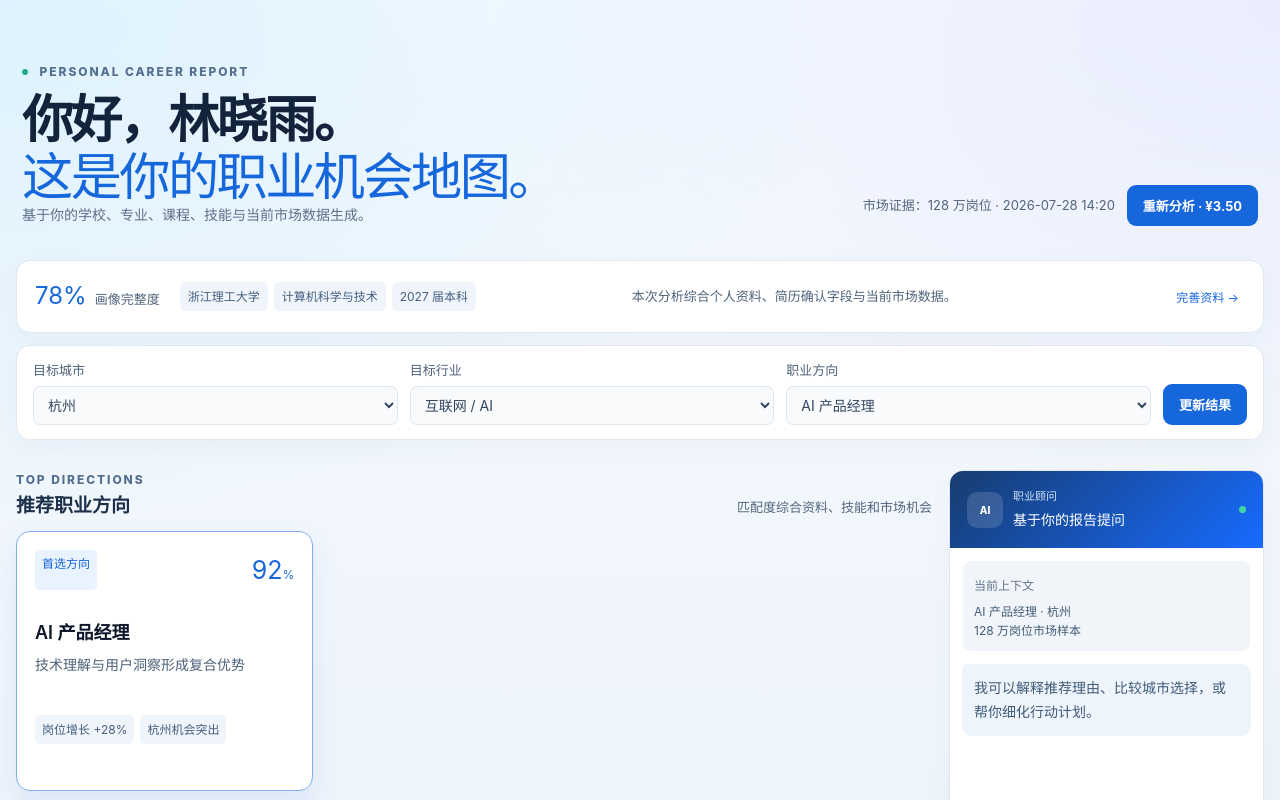
Test: CareerAnalysisView › renders report run progress from SSE and refreshes the completed report
Click the button with test id "generate-analysis": [1192, 206] box 1127,185 -> 1258,226
(page scrolled)
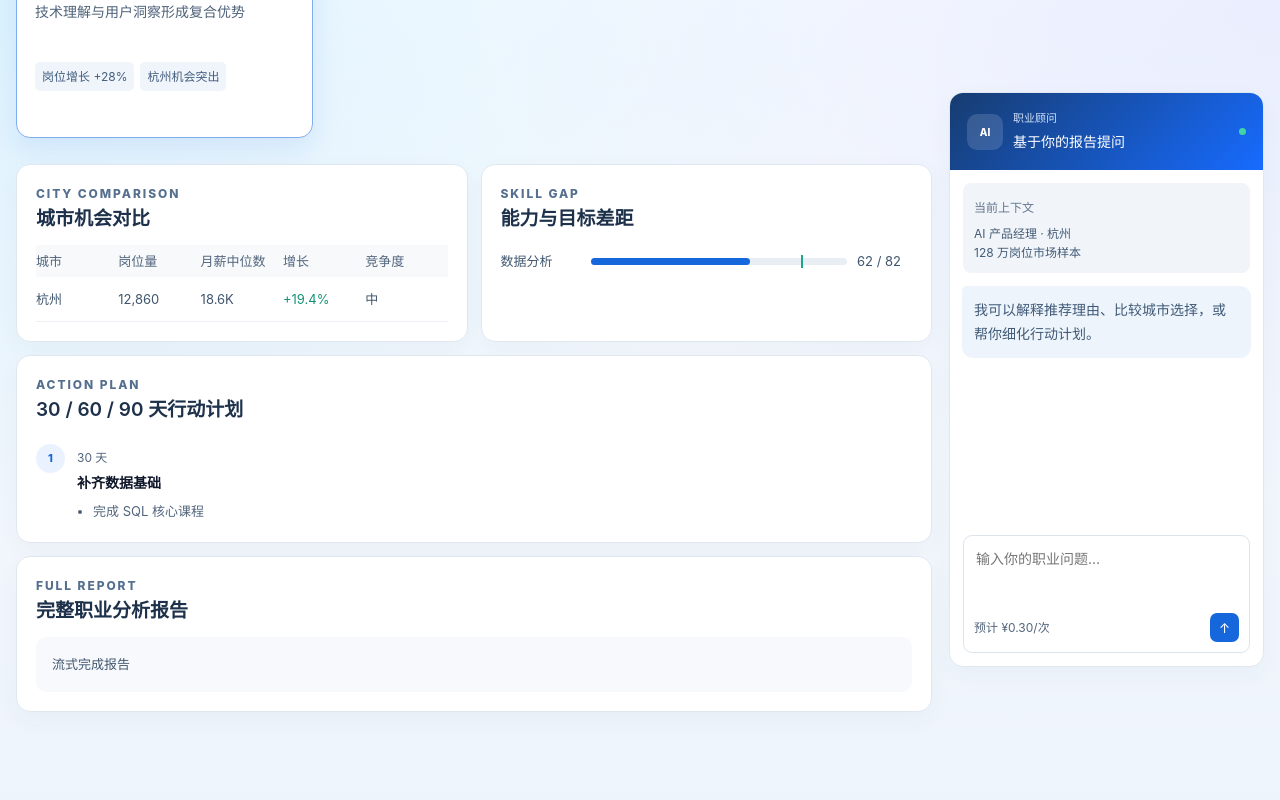
Check: the element with test id "latest-report" shows "流式完成报告", box 52,657 -> 130,672
